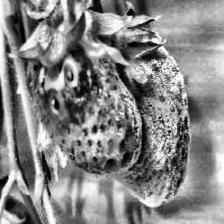Gray Mold: (99, 22, 192, 206), (26, 34, 143, 176)
